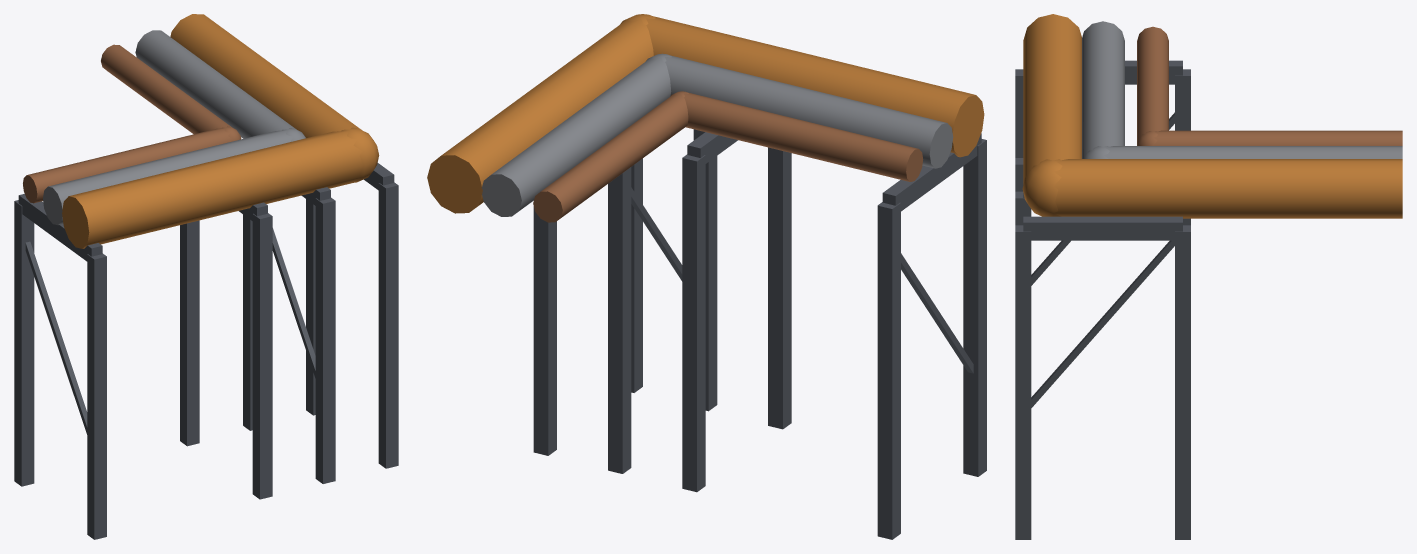
The model's file is pipe_rack_corner.glb.
The picture shows the model from 3 angles, left to right: view 1: azimuth 30°, elevation 25°; view 2: azimuth 150°, elevation 25°; view 3: azimuth 270°, elevation 25°; orthographic projection. The views are drawn at different scales.
Parts seen in each view (by area): view 1: pipe_a, pipe_b, rack_leg.002, rack_leg.004, rack_leg.006, pipe_b.001, rack_leg, rack_leg.001, rack_leg.005, pipe_a.001, pipe_b.002, pipe_a.002 (+6 smaller); view 2: pipe_b, pipe_a, pipe_a.001, pipe_b.001, pipe_a.002, rack_leg.001, rack_leg.005, rack_leg, rack_leg.003, rack_leg.004, pipe_b.002, rack_leg.007 (+6 smaller); view 3: pipe_b, pipe_a, rack_leg.006, pipe_a.001, rack_leg.007, pipe_b.002, rack_beam.003, pipe_b.001, pipe_a.002, rack_brace.001, elbow, rack_leg.001 (+3 smaller).
Part boxes in pixels (x1,y1,x2,y2): pipe_a: (62, 131, 363, 248); pipe_b: (170, 14, 361, 137); rack_leg.002: (315, 197, 335, 483); rack_leg.004: (252, 213, 272, 499); rack_leg.006: (378, 182, 398, 468); pipe_b.001: (135, 30, 296, 138); rack_leg: (87, 253, 106, 539); rack_leg.001: (14, 200, 34, 486); rack_leg.005: (180, 220, 199, 446); pipe_a.001: (43, 130, 293, 225); pipe_b.002: (101, 44, 231, 134); pipe_a.002: (23, 128, 232, 203); pipe_b: (427, 18, 653, 213); pipe_a: (646, 16, 984, 157); pipe_a.001: (665, 55, 953, 168); pipe_b.001: (481, 57, 671, 216); pipe_a.002: (684, 92, 923, 181); rack_leg.001: (877, 202, 900, 539); rack_leg.005: (682, 154, 705, 492); rack_leg: (963, 139, 986, 476); rack_leg.003: (608, 167, 631, 473); rack_leg.004: (768, 147, 791, 429); pipe_b.002: (533, 94, 688, 222); rack_leg.007: (533, 206, 556, 455); pipe_b: (1053, 159, 1402, 218); pipe_a: (1023, 14, 1081, 184); rack_leg.006: (1015, 225, 1031, 539); pipe_a.001: (1082, 21, 1124, 158); rack_leg.007: (1175, 225, 1190, 539); pipe_b.002: (1153, 130, 1402, 145); rack_beam.003: (1023, 216, 1182, 240); pipe_b.001: (1104, 146, 1402, 158); pipe_a.002: (1137, 26, 1168, 144); rack_brace.001: (1031, 240, 1174, 407); elbow: (1022, 159, 1062, 216); rack_leg.001: (1175, 69, 1190, 130).
Size of what is drawn, in the model's own units: 3.88 by 4.01 by 3.88.
